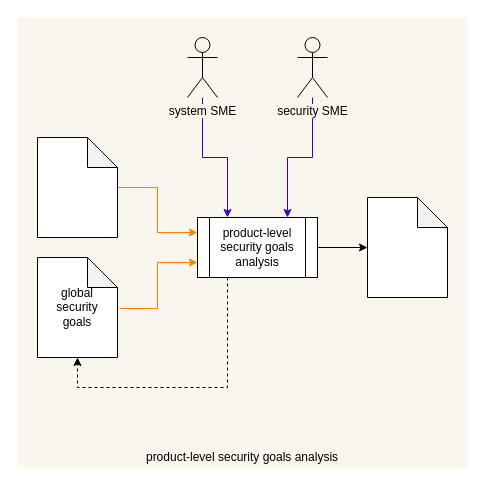
Image size: 484x484. Some labels were removed from this diagram. The shapes that lost their labels are listed below. From the top down, each one's centre as x and y in pixels, then its label:
At pixel 77 187: "product-level functional goals".
At pixel 407 247: "product-level security goals".
